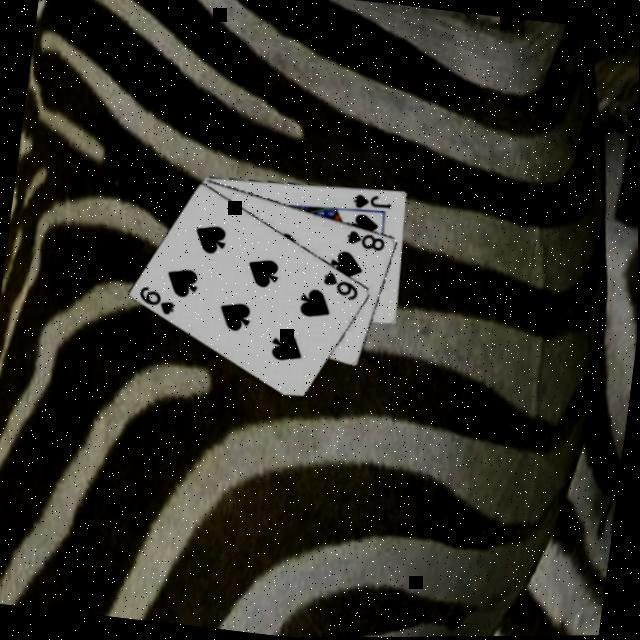6S: (132, 284, 177, 319), (317, 270, 360, 305)
8S: (341, 228, 387, 255)
JS: (347, 191, 393, 215)
